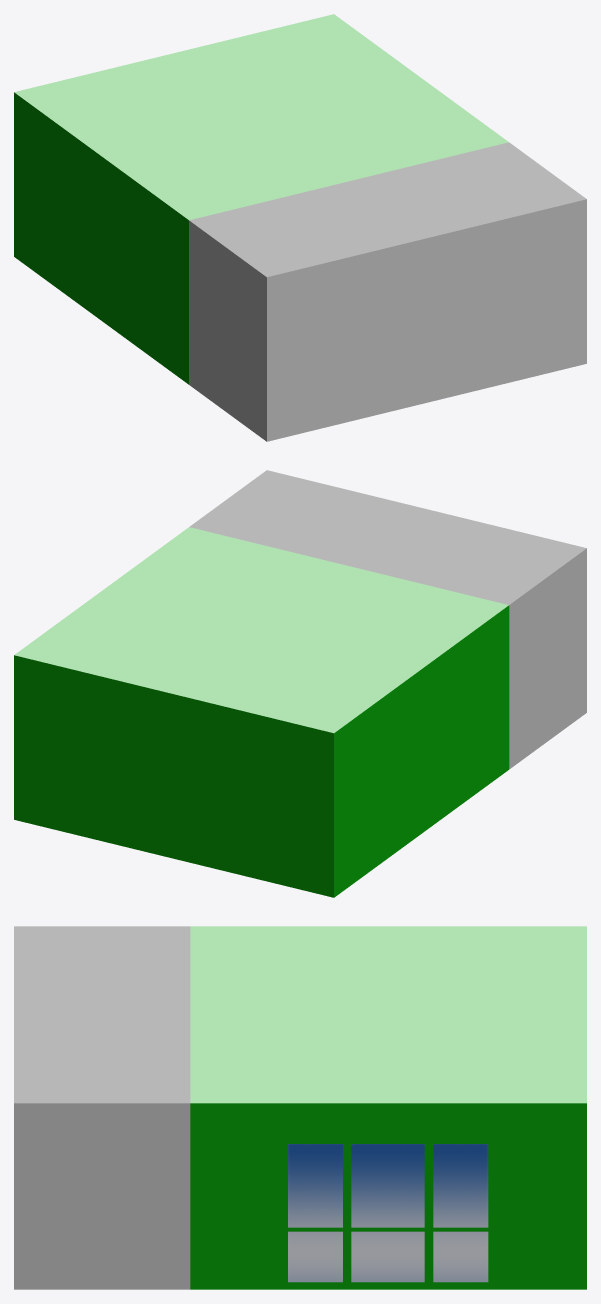
The model's file is ENVI_Bedroom.obj.
3 views of the same model, one above another, from view 1: azimuth 30°, elevation 25°; view 2: azimuth 150°, elevation 25°; view 3: azimuth 270°, elevation 25° (orthographic). The views are drawn at different scales.
Parts seen in each view (by area): view 1: Bedroom; view 2: Bedroom; view 3: Bedroom.
Boxes of the visible parts, x1,y1,x2,y2 form: Bedroom: [14, 14, 586, 441]; Bedroom: [14, 470, 586, 897]; Bedroom: [14, 926, 586, 1289].
Size of what is drawn, in the model's own units: 570 by 280 by 780.
17 materials, 11 textured.
